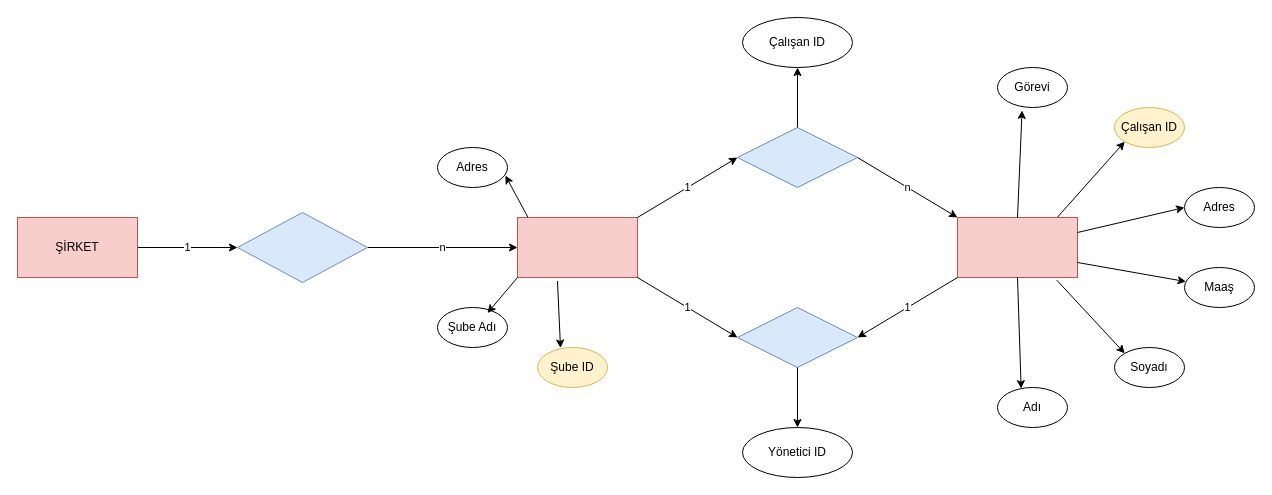
Image size: 1272x495. Some labels were removed from this diagram. Each missing label, with the centre of its shape:
"Sahiptir" goes at point 302,247.
"Yönetir" goes at point 797,337.
"Çalışan" goes at point 1017,247.
"Çalışır" goes at point 797,157.
"Şube" goes at point 577,247.
